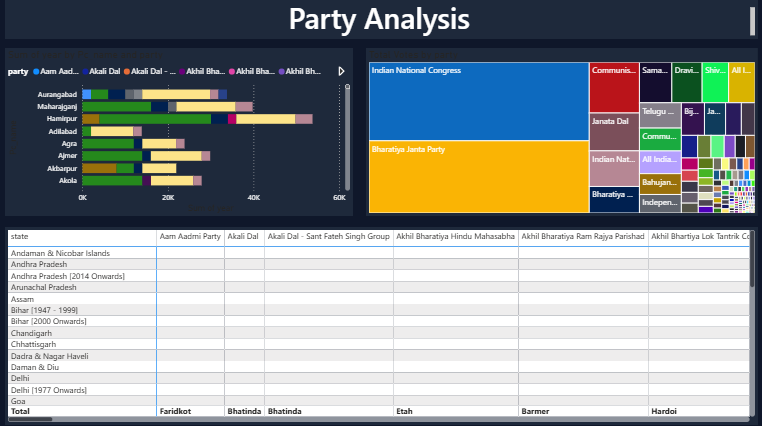

The page's visual inventory and layout, read from the dashboard file:
{"tool":"powerbi","page":{"name":"Page 2","canvas":[1280,720],"ordinal":1},"visuals":[{"type":"hundredPercentStackedBarChart","fields":{"Y":["Sum(final_processed_election_data.votes)"],"Category":["final_processed_election_data.Pc_name"],"Series":["final_processed_election_data.party"]},"box":[0,80,630,280],"z":0},{"type":"treemap","fields":{"Group":["final_processed_election_data.party"],"Values":["final_processed_election_data.Total Votes"]},"box":[650,80,630,280],"z":1000},{"type":"pivotTable","fields":{"Rows":["final_processed_election_data.state"],"Columns":["final_processed_election_data.party"],"Values":["Min(final_processed_election_data.Pc_name)"]},"box":[0,370,1280,332.5],"z":2000},{"type":"textbox","box":[0,0,1280,62.5],"z":3000}]}

Visuals, with their boxes in screenshot pixels (x1, y1, x2, y2), scaled from the page's 1280x720 canvas onto the 762x426 screenshot:
hundredPercentStackedBarChart - Sum(final_processed_election_data.votes) x final_processed_election_data.Pc_name: select_region(0, 47, 375, 213)
treemap - final_processed_election_data.party x final_processed_election_data.Total Votes: select_region(387, 47, 761, 213)
pivotTable - final_processed_election_data.state x final_processed_election_data.party: select_region(0, 219, 761, 416)
textbox: select_region(0, 0, 761, 37)
